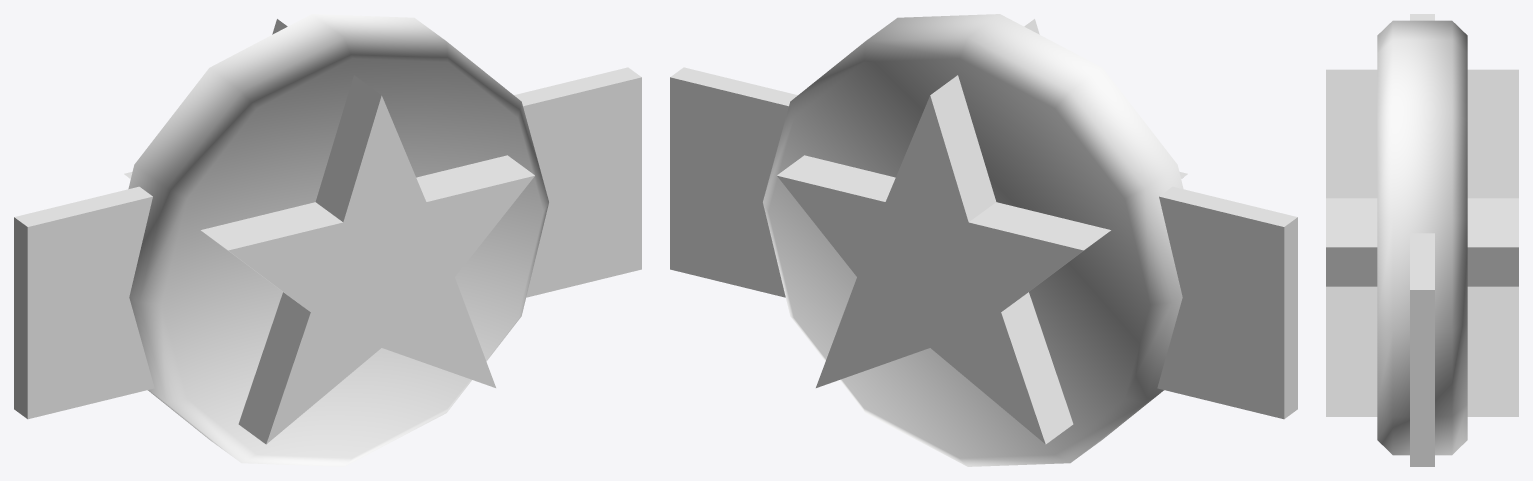
Rendered from hotp.ico.obj.
3 renders of one model, left to right at view 1: azimuth 30°, elevation 25°; view 2: azimuth 150°, elevation 25°; view 3: azimuth 270°, elevation 25°, orthographic. The views are drawn at different scales.
Size of the model in its own units: 2.94 by 1.97 by 0.8691.
Materials: 1 (1 with a texture image).
